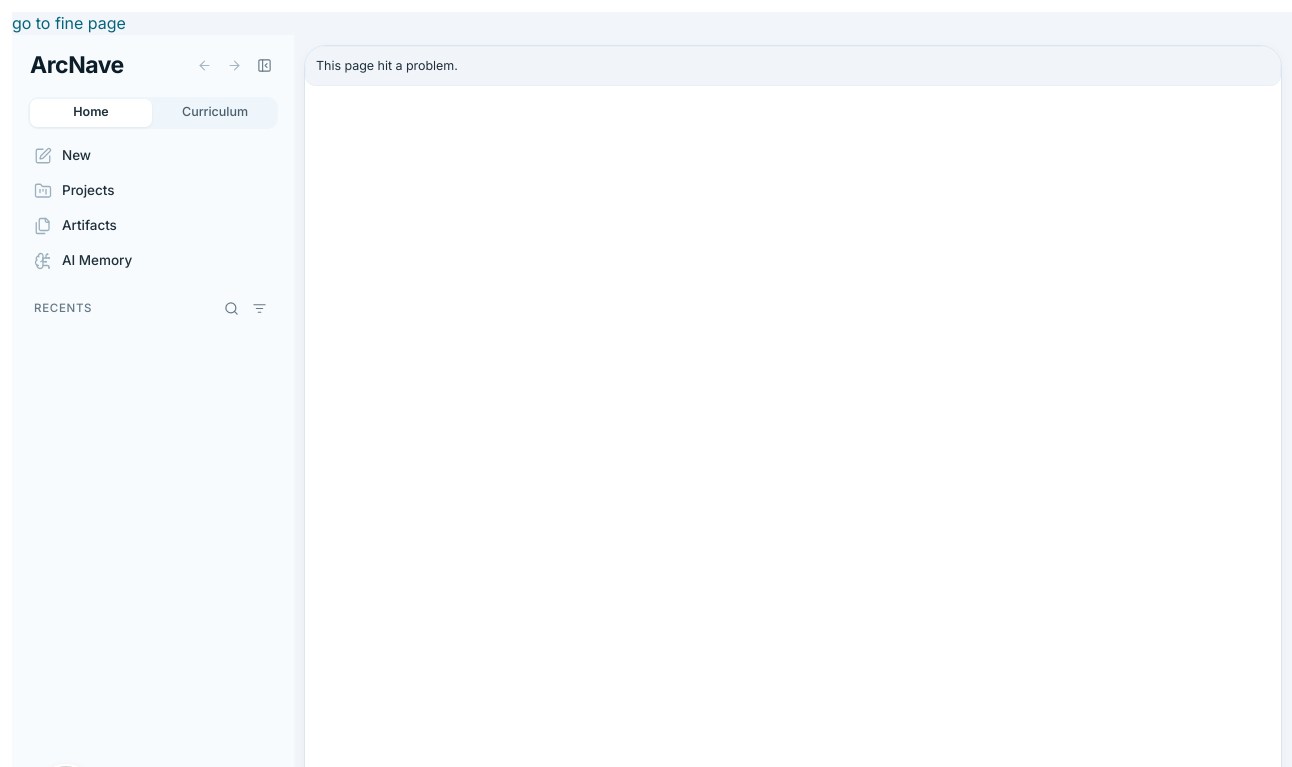
AppShell — route-level error boundary (P4 5.12) › recovers when the user navigates away from a crashed route
Expected: the text "This page hit a problem." is shown, 305,46 -> 1281,86
Click the link "go to fine page" at (69,23), box 12,13 -> 126,33
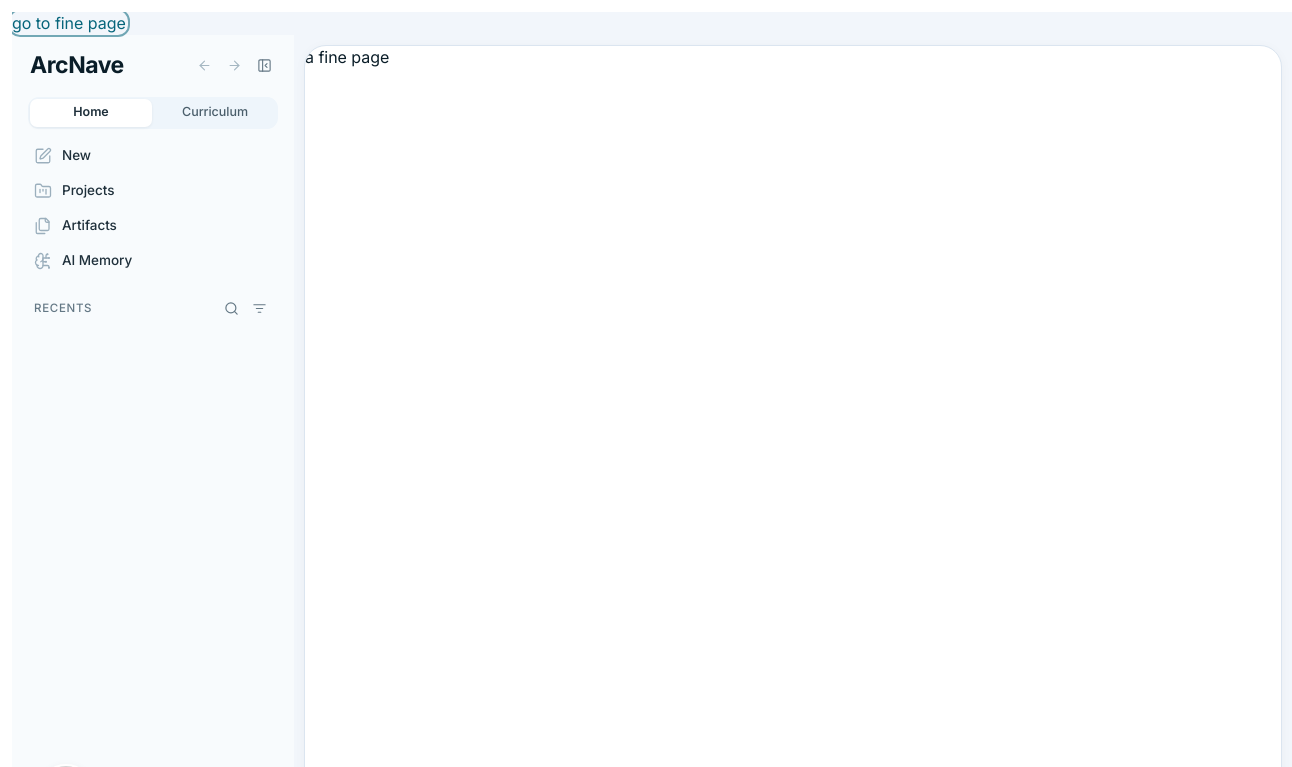
Expected: the text "a fine page" is shown, 305,47 -> 389,67
Expected: the text "This page hit a problem." is gone
